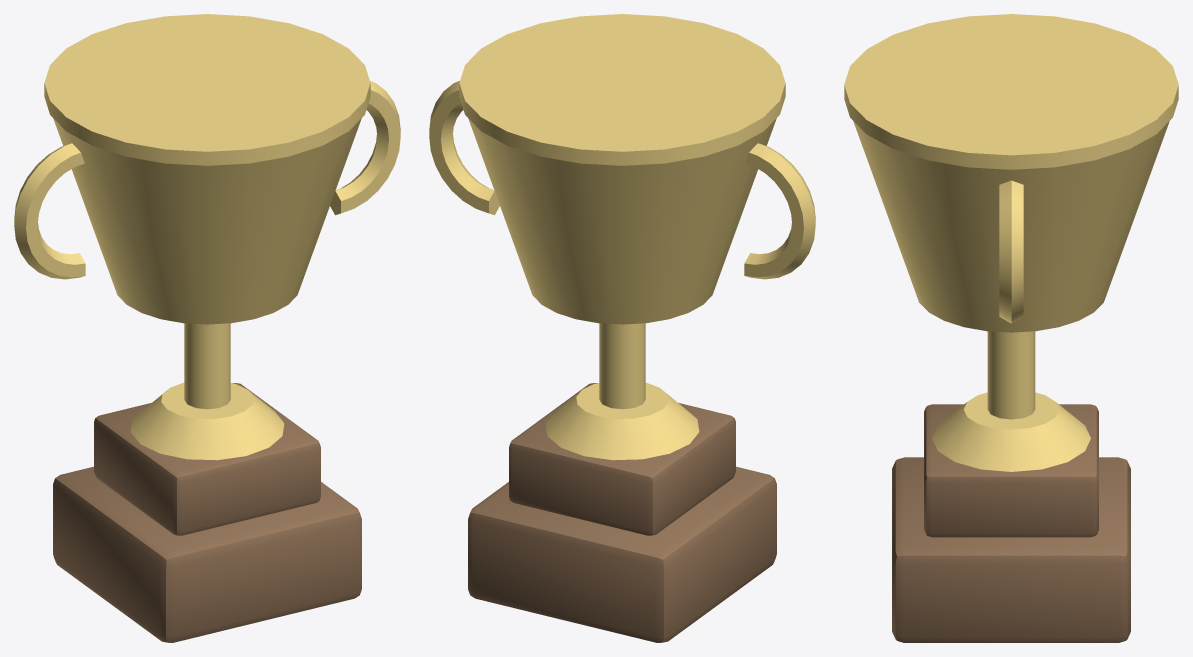
The model's file is Trophy.fbx.
3 renders of one model, left to right at view 1: azimuth 30°, elevation 25°; view 2: azimuth 150°, elevation 25°; view 3: azimuth 270°, elevation 25°, orthographic. The views are drawn at different scales.
Parts seen in each view (by area): view 1: Body.008, Trim.008; view 2: Body.008, Trim.008; view 3: Body.008, Trim.008.
Boxes of the visible parts, <box> form: Body.008: <box>14,14,400,460</box>; Trim.008: <box>53,383,361,642</box>; Body.008: <box>429,14,815,460</box>; Trim.008: <box>468,383,776,642</box>; Body.008: <box>844,14,1178,471</box>; Trim.008: <box>892,404,1130,642</box>.
Size of the model in its own units: 1.15 by 1.42 by 0.84.
